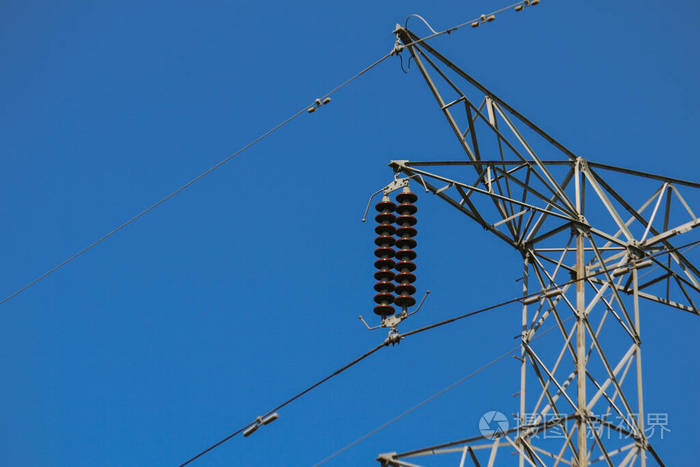insulator: (374, 190, 419, 319)
